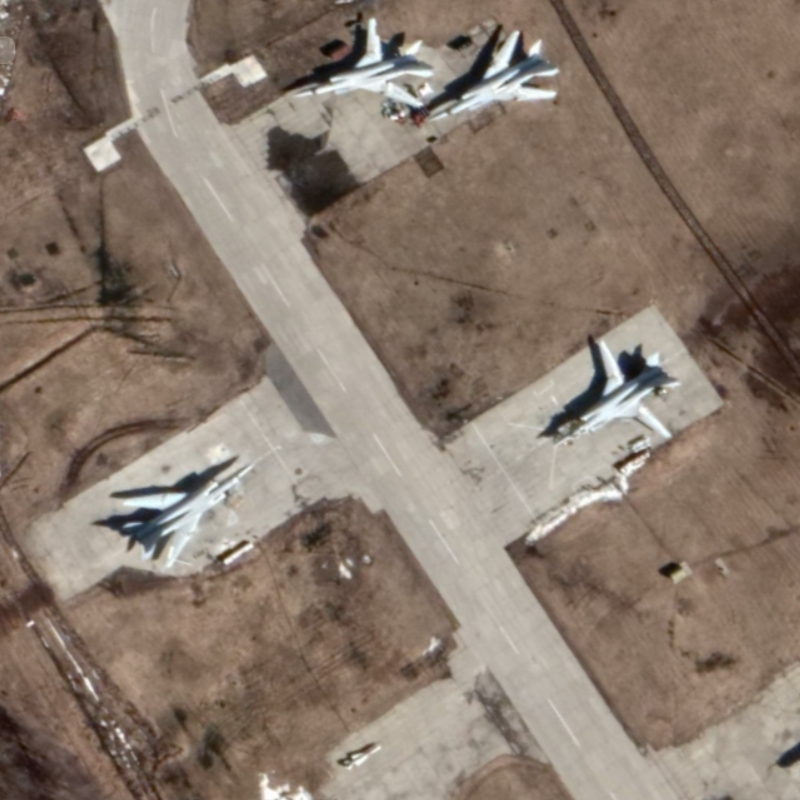A12: (551, 338, 685, 450), (120, 461, 256, 570), (290, 16, 435, 110), (426, 27, 562, 124)
